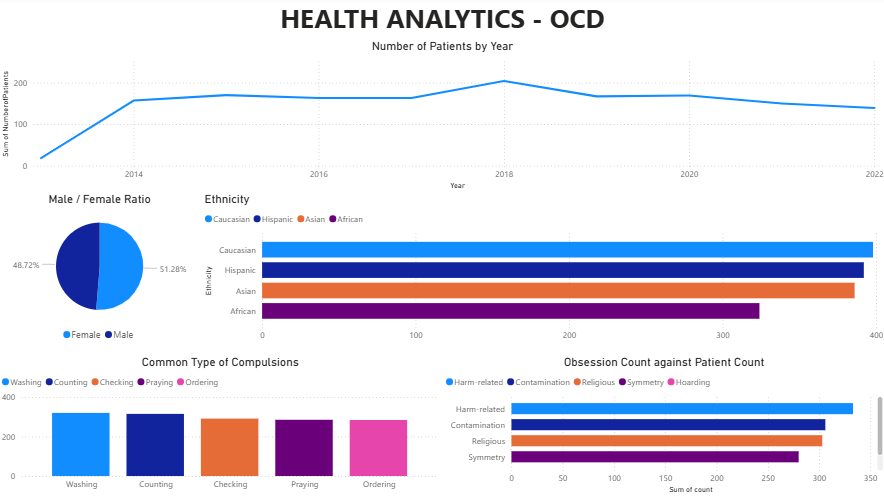

The page's visual inventory and layout, read from the dashboard file:
{"tool":"powerbi","page":{"name":"Page 1","canvas":[1280,720],"ordinal":0},"visuals":[{"type":"pieChart","title":"Male / Female Ratio","fields":{"Category":["gender.Column1"],"Series":["gender.Column2"],"Y":["Sum(gender.Column3)"]},"box":[0,281.4,292.9,224.3],"z":0},{"type":"textbox","box":[0,0,1280,119.3],"z":1000},{"type":"lineChart","title":"Number of Patients by Year","fields":{"Category":["peopleDiagnosedperMonth.DatesbyMonth.Variation.Date Hierarchy.Year","peopleDiagnosedperMonth.DatesbyMonth.Variation.Date Hierarchy.Quarter","peopleDiagnosedperMonth.DatesbyMonth.Variation.Date Hierarchy.Month","peopleDiagnosedperMonth.DatesbyMonth.Variation.Date Hierarchy.Day"],"Y":["Sum(peopleDiagnosedperMonth.NumberofPatients)"]},"box":[0,60,1280,221.4],"z":2000},{"type":"columnChart","title":"Common Type of Compulsions","fields":{"Category":["CommonTypeCompulsion.TypeofCompulsion"],"Y":["Sum(CommonTypeCompulsion.Count)"],"Series":["CommonTypeCompulsion.TypeofCompulsion"]},"box":[0,515.7,640,204.3],"z":3000},{"type":"barChart","title":"Obsession Count against Patient Count","fields":{"Category":["CommonTypeObsession.typeofOCD"],"Y":["Sum(CommonTypeObsession.count)"],"Series":["CommonTypeObsession.typeofOCD"]},"box":[640,515.7,640,204.3],"z":4000},{"type":"barChart","title":"Ethnicity","fields":{"Y":["Sum(Ethnicity.EthnicityCount)"],"Category":["Ethnicity.Ethnicity"],"Series":["Ethnicity.Ethnicity"]},"box":[292.9,281.4,987.1,224.3],"z":5000}]}

Visuals, with their boxes in screenshot pixels (x1, y1, x2, y2), scaled from the page's 1280x720 canvas onto the 884x496 screenshot:
"Male / Female Ratio" pieChart: l=0, t=194, r=202, b=348
textbox: l=0, t=0, r=883, b=82
"Number of Patients by Year" lineChart: l=0, t=41, r=883, b=194
"Common Type of Compulsions" columnChart: l=0, t=355, r=442, b=495
"Obsession Count against Patient Count" barChart: l=442, t=355, r=883, b=495
"Ethnicity" barChart: l=202, t=194, r=883, b=348
